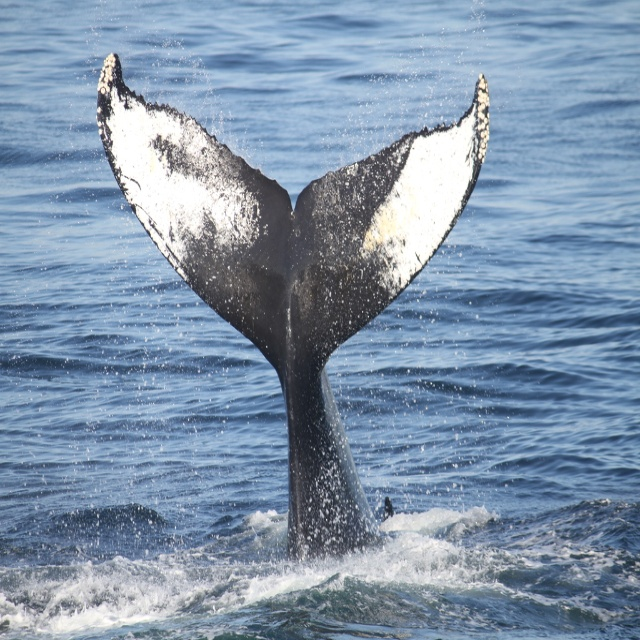Whale: (97, 53, 490, 564)
